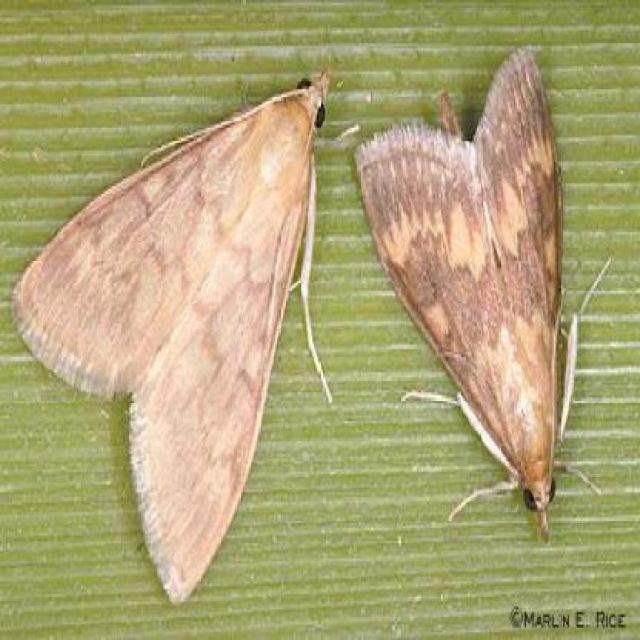stem-borer: (6, 63, 339, 606), (355, 42, 580, 543)
